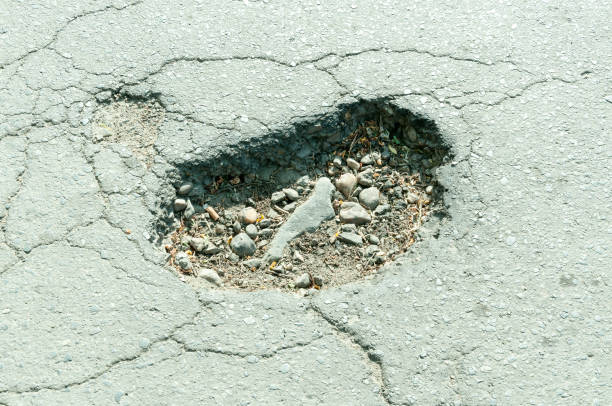potholes: (151, 102, 465, 306)
